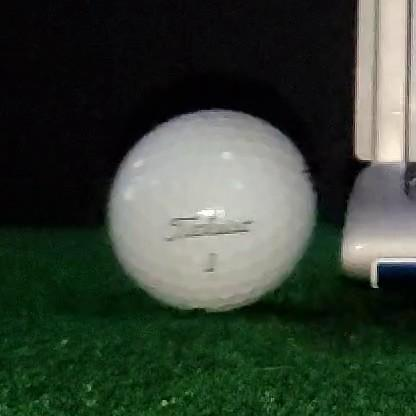golfball: (108, 111, 315, 311)
